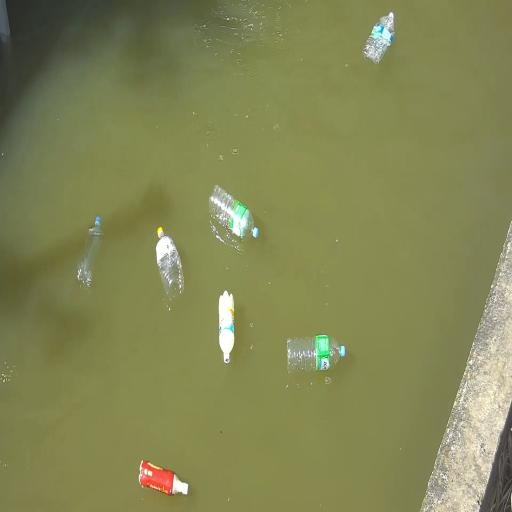plastic: (209, 185, 258, 239), (287, 335, 345, 373), (156, 227, 184, 297), (78, 217, 102, 287), (139, 461, 188, 495), (363, 11, 394, 64), (219, 291, 234, 363)
